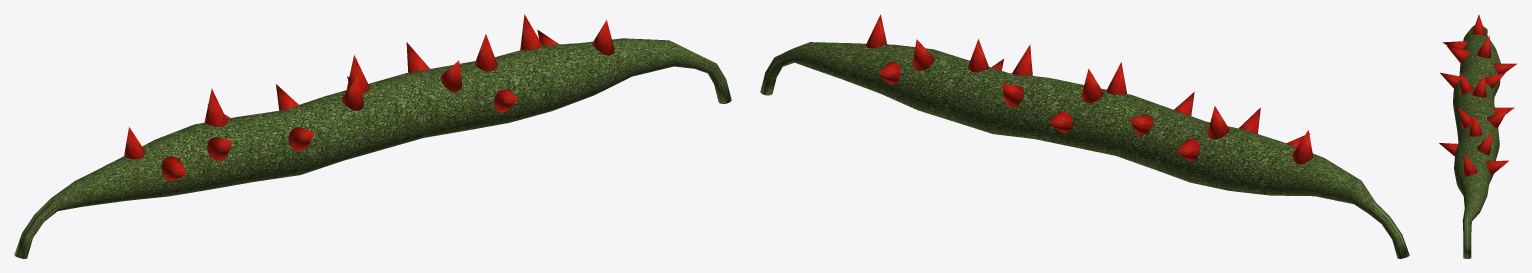
Rendered from SpikyStem.fbx.
The picture shows the model from 3 angles, left to right: view 1: azimuth 30°, elevation 25°; view 2: azimuth 150°, elevation 25°; view 3: azimuth 270°, elevation 25°; orthographic projection. The views are drawn at different scales.
Visible parts, largest first — view 1: Cylinder, Cone.003, Cone.016, Cone.007, Cone.015, Cone.001, Cone.002, Cone.005, Cone.011, Cone.013, Cone; view 2: Cylinder, Cone.008, Cone.003, Cone.013, Cone, Cone.010, Cone.016, Cone.015, Cone.007, Cone.004, Cone.009, Cone.011; view 3: Cylinder, Cone.003, Cone.015, Cone.008, Cone.010, Cone.014, Cone.002, Cone.013, Cone.004, Cone.011, Cone.007, Cone.016 (+6 smaller).
Boxes of the visible parts, x1,y1,x2,y2 form: Cylinder: [14, 38, 731, 258]; Cone.003: [204, 88, 227, 126]; Cone.016: [475, 34, 497, 71]; Cone.007: [342, 76, 363, 110]; Cone.015: [592, 20, 614, 55]; Cone.001: [161, 156, 186, 180]; Cone.002: [207, 137, 232, 161]; Cone.005: [288, 127, 314, 151]; Cone.011: [440, 60, 461, 92]; Cone.013: [520, 14, 542, 50]; Cone: [124, 127, 145, 159]; Cylinder: [760, 42, 1409, 258]; Cone.008: [1081, 69, 1103, 103]; Cone.003: [1207, 106, 1229, 139]; Cone.013: [912, 39, 933, 70]; Cone: [1292, 130, 1312, 164]; Cone.010: [1002, 83, 1024, 107]; Cone.016: [968, 39, 989, 72]; Cone.015: [866, 14, 886, 48]; Cone.007: [1106, 62, 1126, 94]; Cone.004: [1176, 138, 1199, 160]; Cone.009: [1049, 111, 1072, 133]; Cone.011: [1012, 44, 1032, 75]; Cylinder: [1453, 25, 1500, 258]; Cone.003: [1476, 35, 1491, 58]; Cone.015: [1463, 154, 1477, 176]; Cone.008: [1472, 75, 1486, 97]; Cone.010: [1487, 109, 1508, 128]; Cone.014: [1486, 160, 1508, 175]; Cone.002: [1447, 46, 1469, 63]; Cone.013: [1476, 133, 1492, 154]; Cone.004: [1493, 63, 1516, 74]; Cone.011: [1458, 107, 1473, 128]; Cone.007: [1460, 73, 1473, 94]; Cone.016: [1468, 115, 1482, 136].
Size of the model in its own units: 635 by 107 by 100.
Materials: 2 (2 with a texture image).
